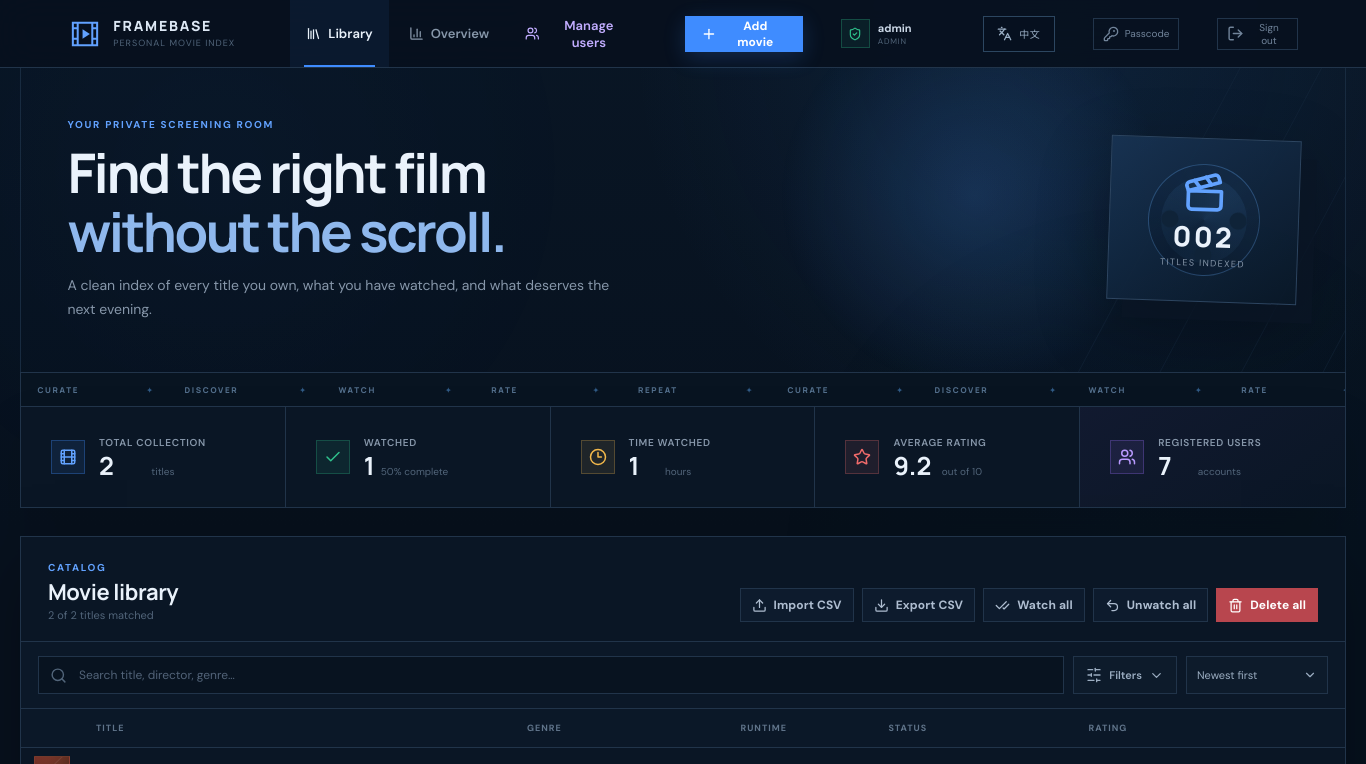
App › requires confirmation before deleting the current users complete library
What coordinates should you click on to do the following:
click the button "Delete all"
I would click on:
 (1267, 605)
Its box is [1216,588,1318,622].
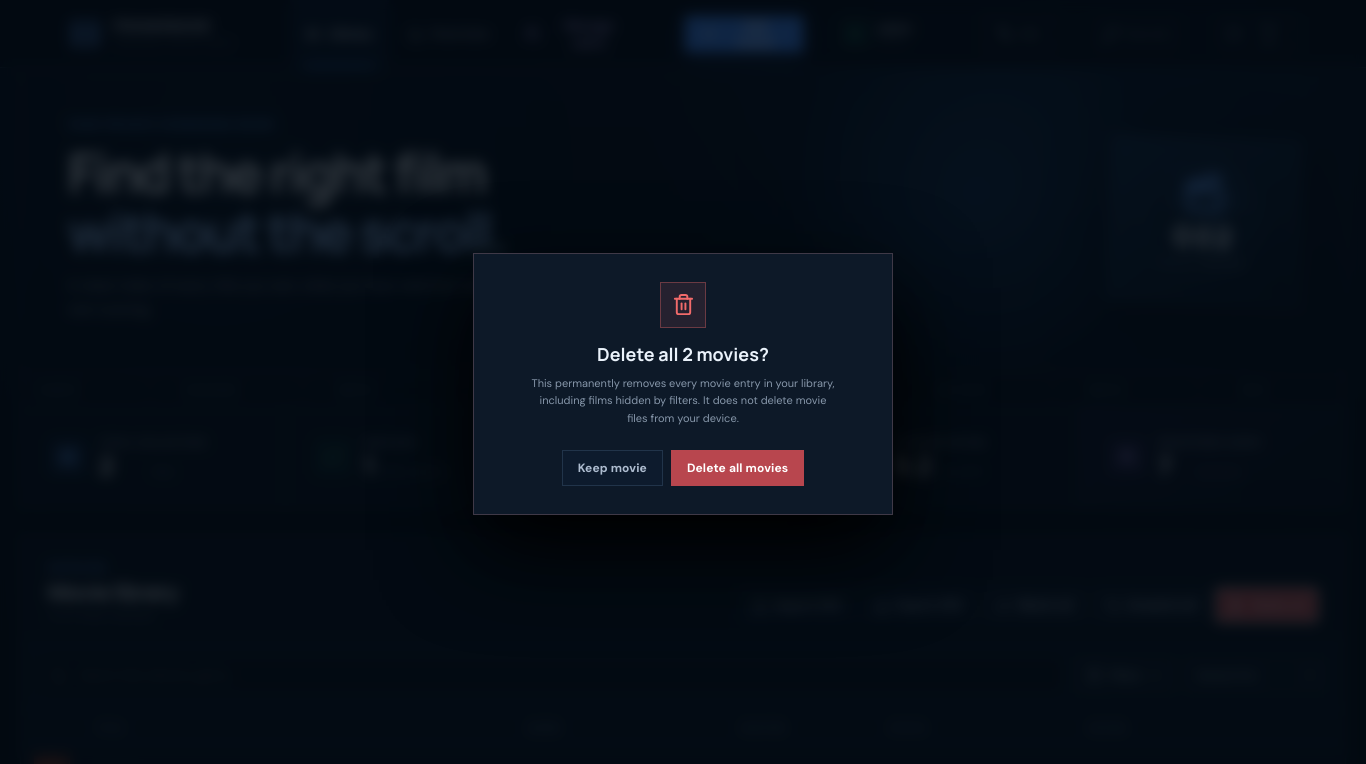
Expected: the dialog "Delete all 2 movies?" is shown, [473,252,893,516]
Expected: the text "including films hidden by filters" is shown, [532,376,834,425]
What coordinates should you click on to do the following:
click the button "Delete all movies"
I would click on:
 (738, 468)
Its box is [671,450,804,486].
(page scrolled)
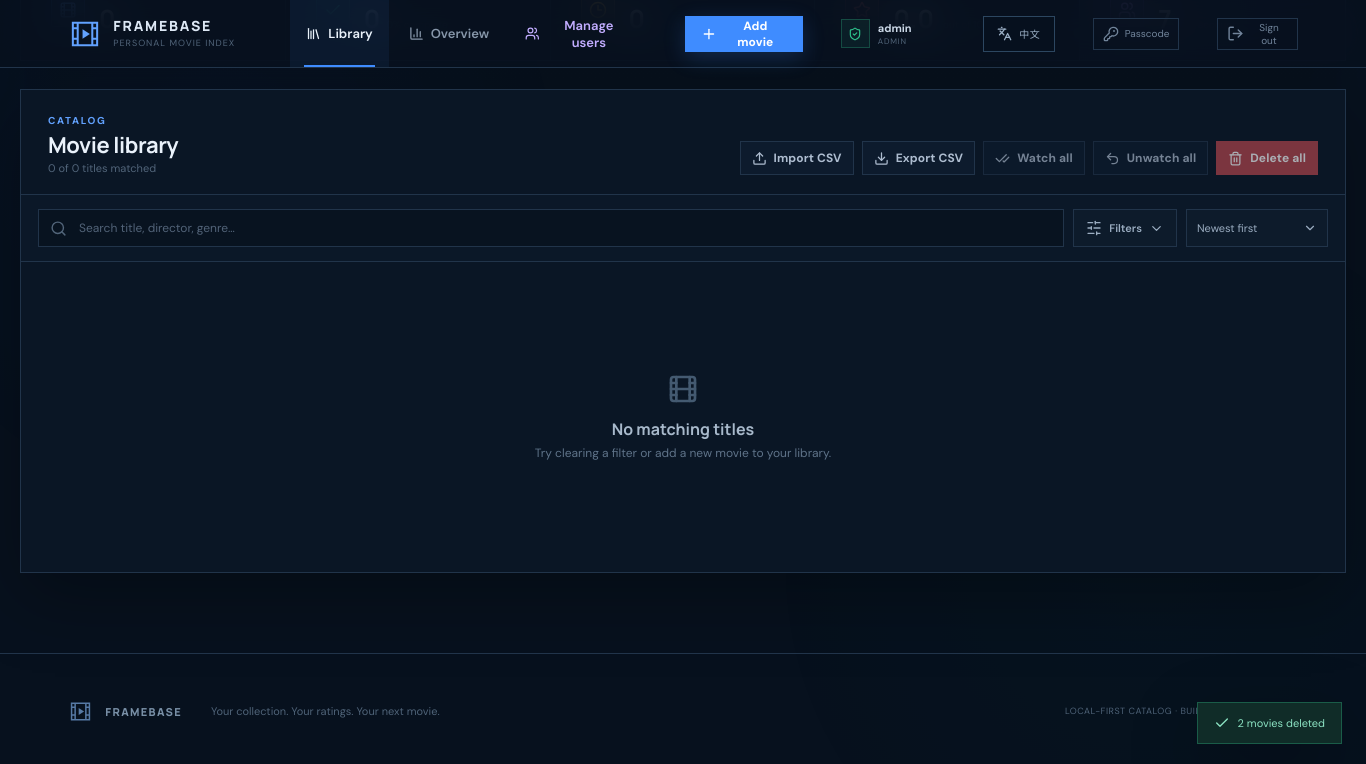
Expected: the text "2 movies deleted" is shown, [1197,702,1342,744]
Expected: the heading "No matching titles" is shown, [612,418,754,440]
